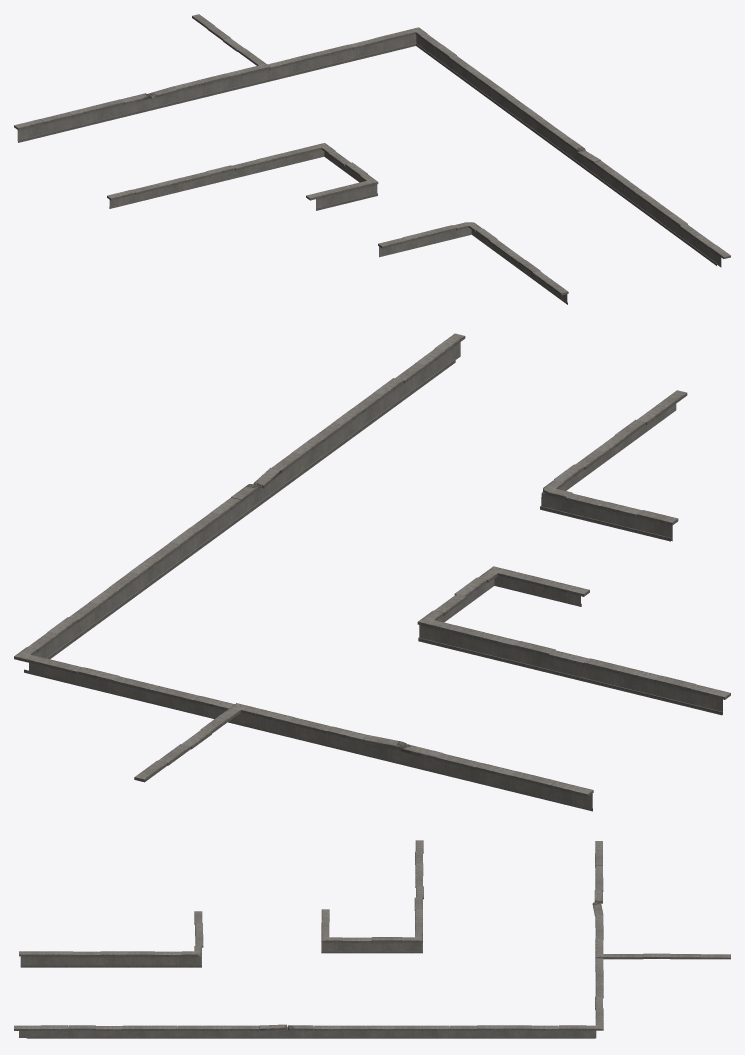
The model's file is Cemetery_STR_GraveBase_02.fbx.
The picture shows the model from 3 angles, top to bottom: view 1: azimuth 30°, elevation 25°; view 2: azimuth 150°, elevation 25°; view 3: azimuth 270°, elevation 25°; orthographic projection. The views are drawn at different scales.
Visible parts, largest first — view 1: Cemetery_STR_GraveBase_02; view 2: Cemetery_STR_GraveBase_02; view 3: Cemetery_STR_GraveBase_02.
Part boxes in pixels (x1=…): Cemetery_STR_GraveBase_02: x1=14, y1=14, x2=730, y2=304; Cemetery_STR_GraveBase_02: x1=14, y1=333, x2=730, y2=811; Cemetery_STR_GraveBase_02: x1=14, y1=840, x2=730, y2=1038.
Bounding box in the file's own units: 1330 × 46.65 × 2142.
Materials: 1 (1 with a texture image).
